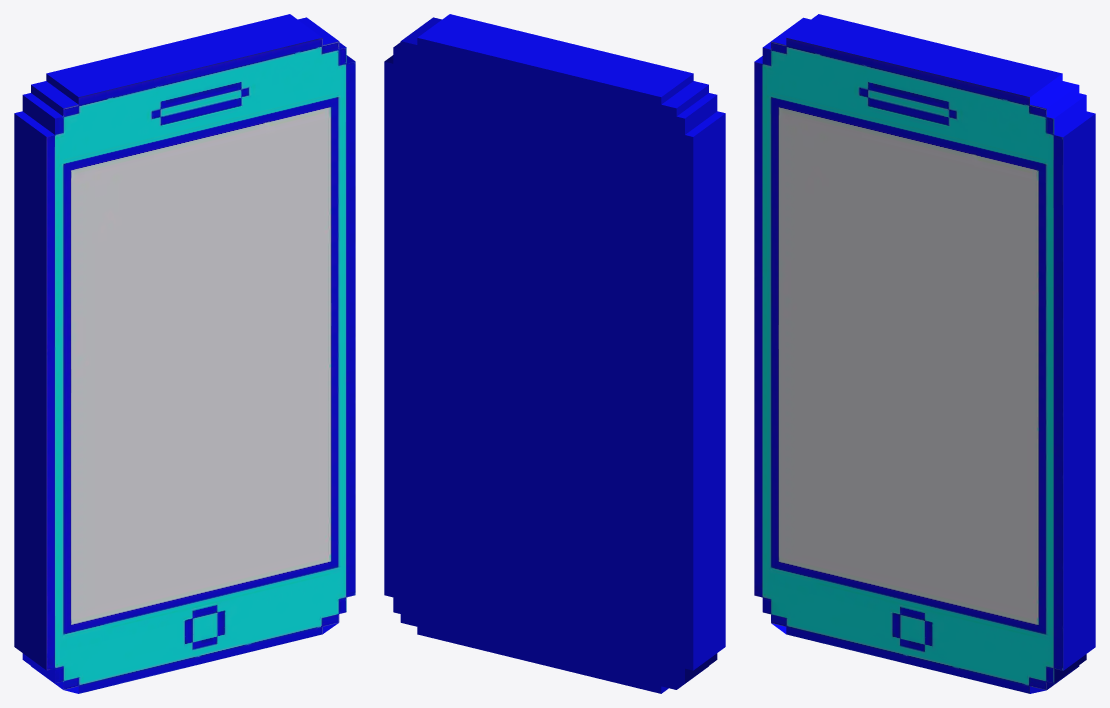
The model's file is phone.glb.
The picture shows the model from 3 angles, left to right: view 1: azimuth 30°, elevation 25°; view 2: azimuth 150°, elevation 25°; view 3: azimuth 330°, elevation 25°; orthographic projection.
Parts seen in each view (by area): view 1: Plane.001; view 2: Plane.001; view 3: Plane.001.
Boxes of the visible parts, left/top/right/bottom form: Plane.001: left=14, top=14, right=355, bottom=693; Plane.001: left=384, top=14, right=725, bottom=693; Plane.001: left=754, top=14, right=1095, bottom=693.
Bounding box in the file's own units: 0.2398 × 0.4424 × 0.0436.
Materials: 2 (1 with a texture image).
